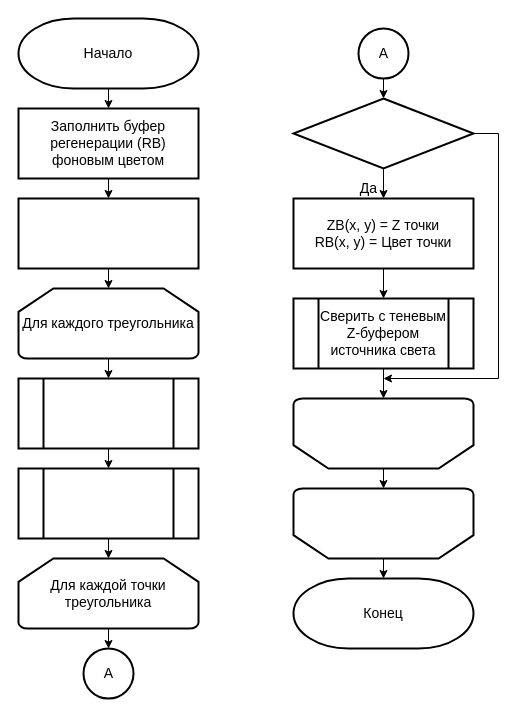
This 524x716 diagram has some shape labels left out. Here are the shapes that lost their labels. From the top down, the box of each, then its label:
(292, 97, 474, 169): Z точки > ZB(x, y)?
(17, 197, 199, 269): Заполнить Z-буфер минимальным значением
(17, 377, 199, 449): Привести треугольник к растровой форме, наложив текстуру
(17, 467, 199, 539): Получить все точки, расчитав их интенсивность по Гуро
